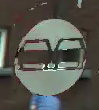No overtake: (7, 10, 87, 97)
